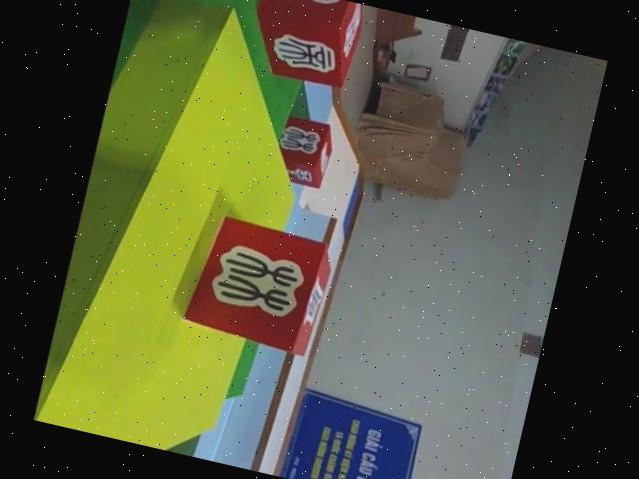R2 Fake: (175, 207, 342, 363), (238, 0, 369, 94), (264, 109, 341, 194)
